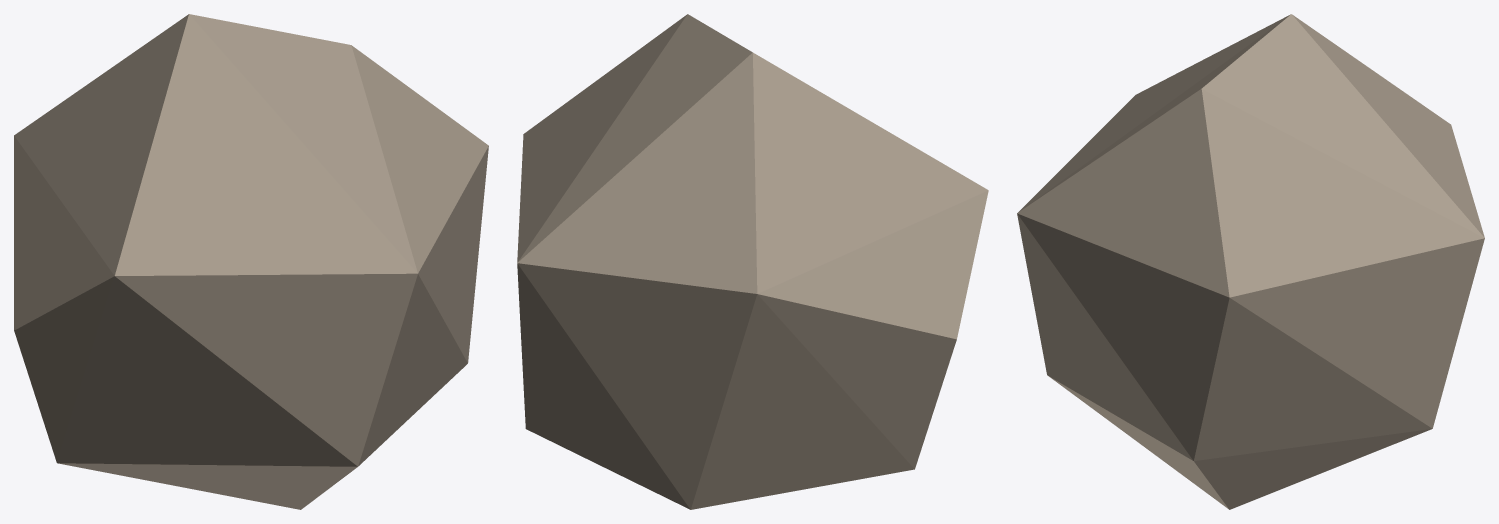
Rendered from SmokePart.fbx.
3 views of the same model, side by side, from view 1: azimuth 30°, elevation 25°; view 2: azimuth 150°, elevation 25°; view 3: azimuth 270°, elevation 25° (orthographic). The views are drawn at different scales.
Visible parts, largest first — view 1: SmokePart; view 2: SmokePart; view 3: SmokePart.
Boxes of the visible parts, bbox=[...] form: SmokePart: bbox=[14, 14, 488, 509]; SmokePart: bbox=[517, 14, 988, 509]; SmokePart: bbox=[1017, 14, 1484, 509].
Bounding box in the file's own units: 82.89 × 84.86 × 78.25.
